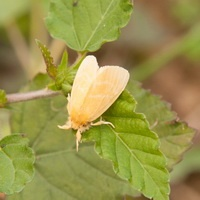insect: (58, 55, 128, 151)
